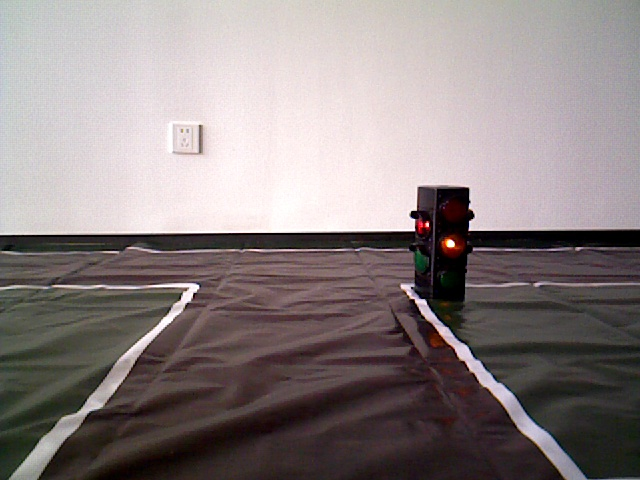yellow: (413, 182, 470, 300)
